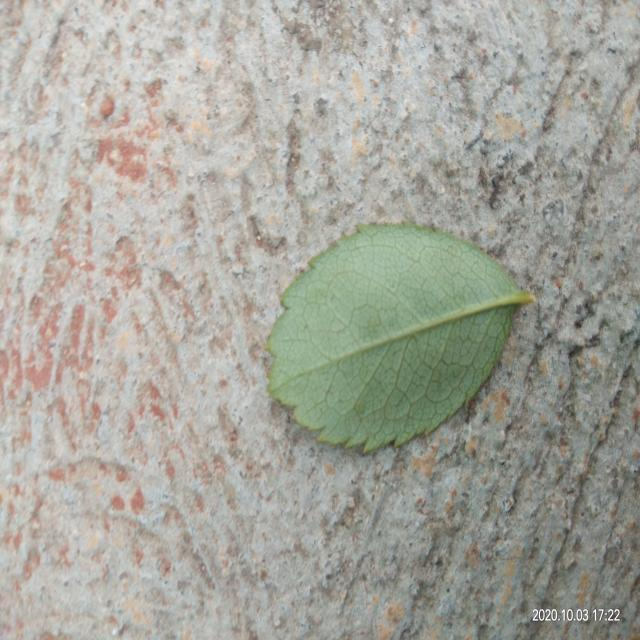rose: (266, 223, 534, 452)
